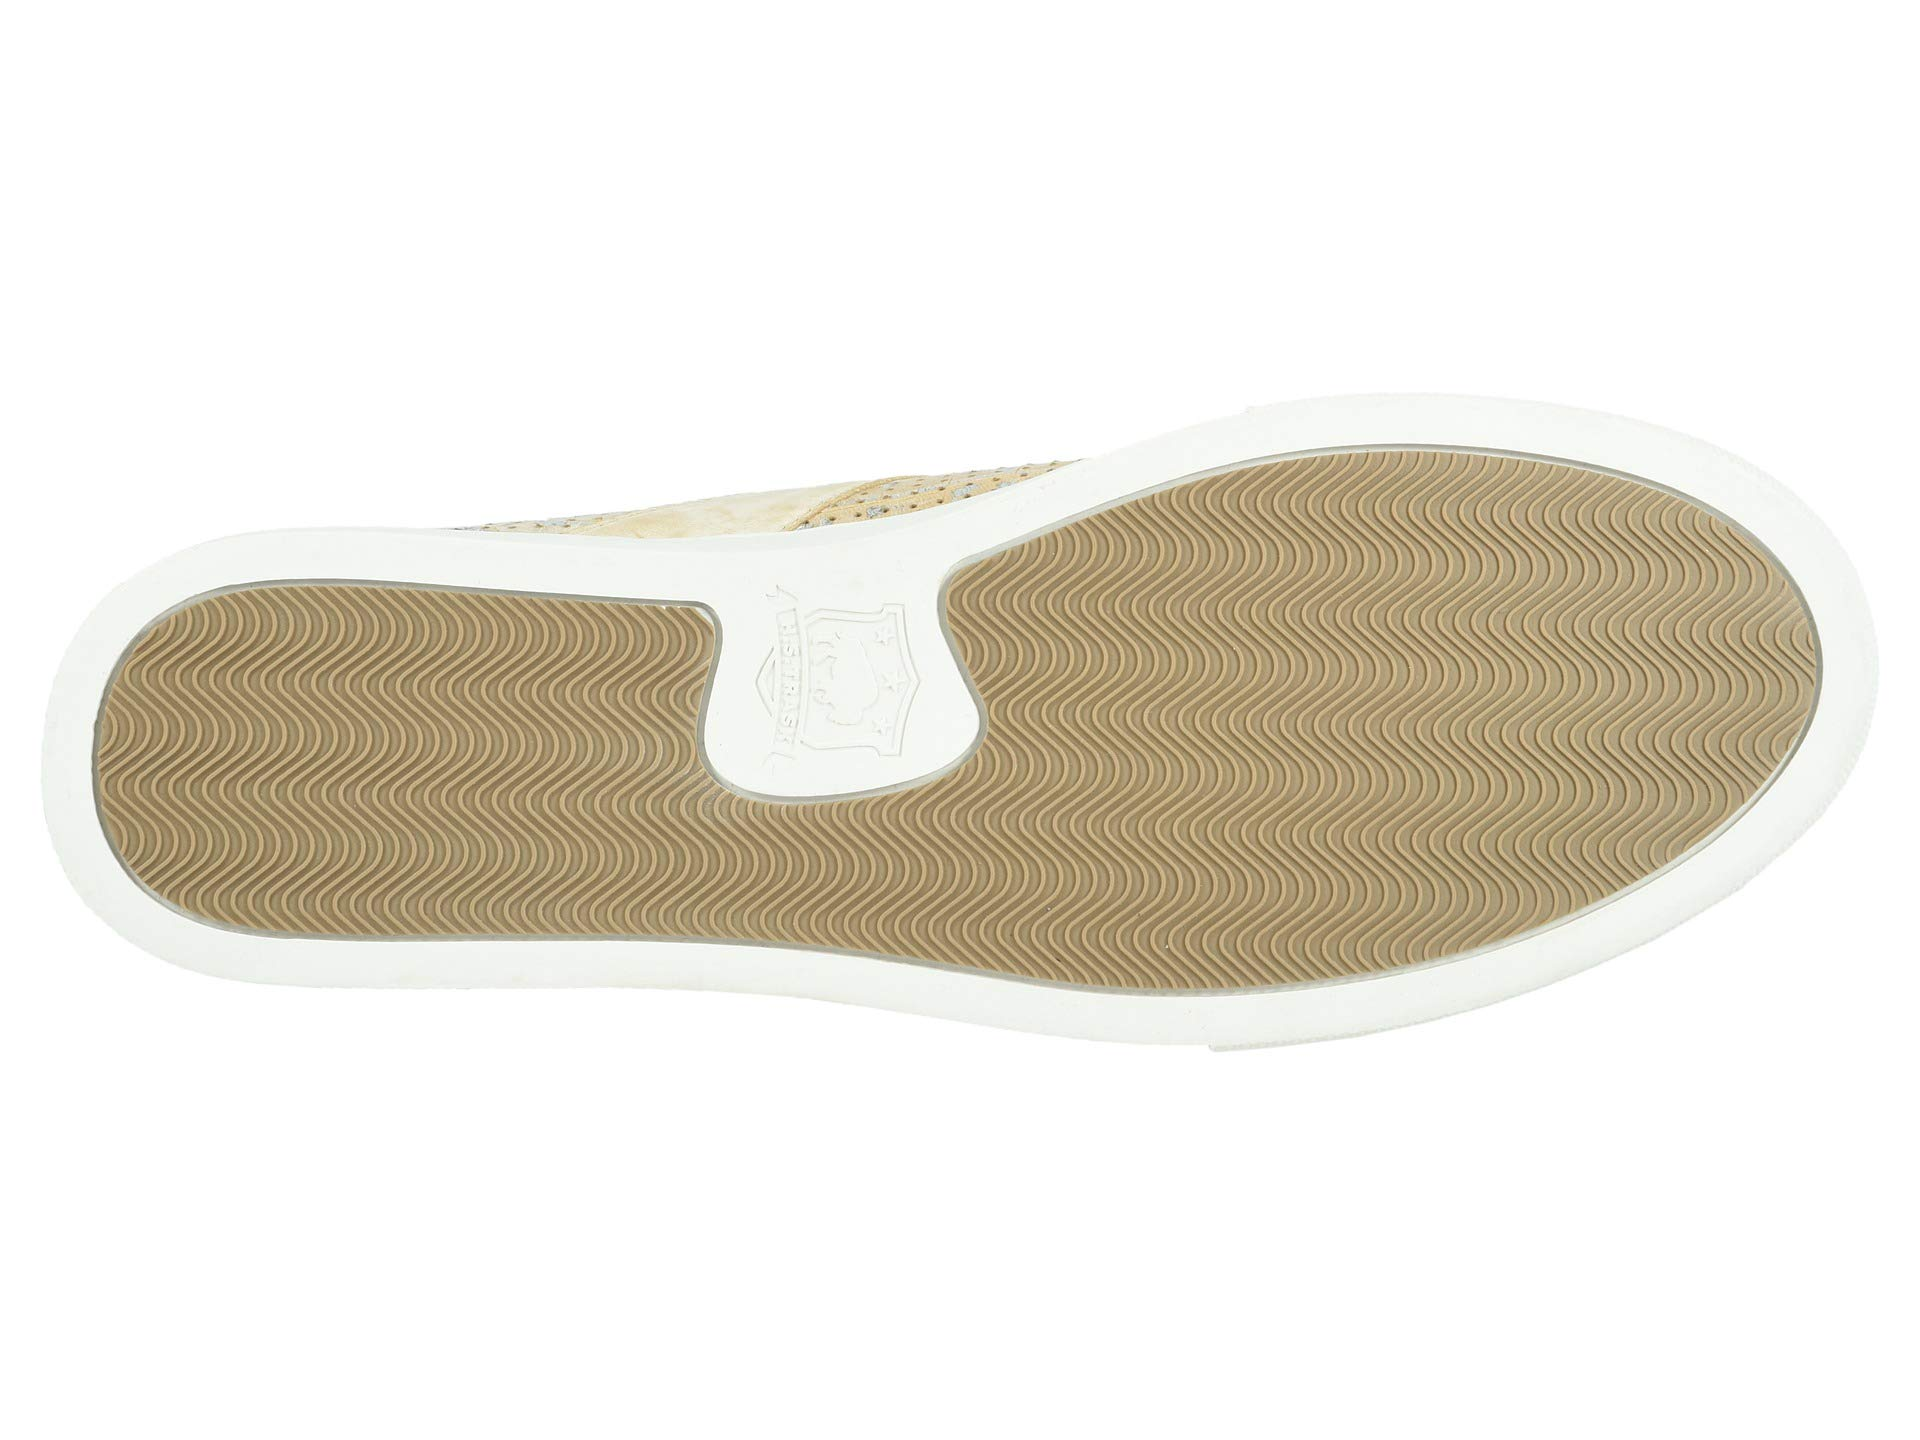chevron: (1039, 554, 1451, 933), (240, 632, 550, 933)
